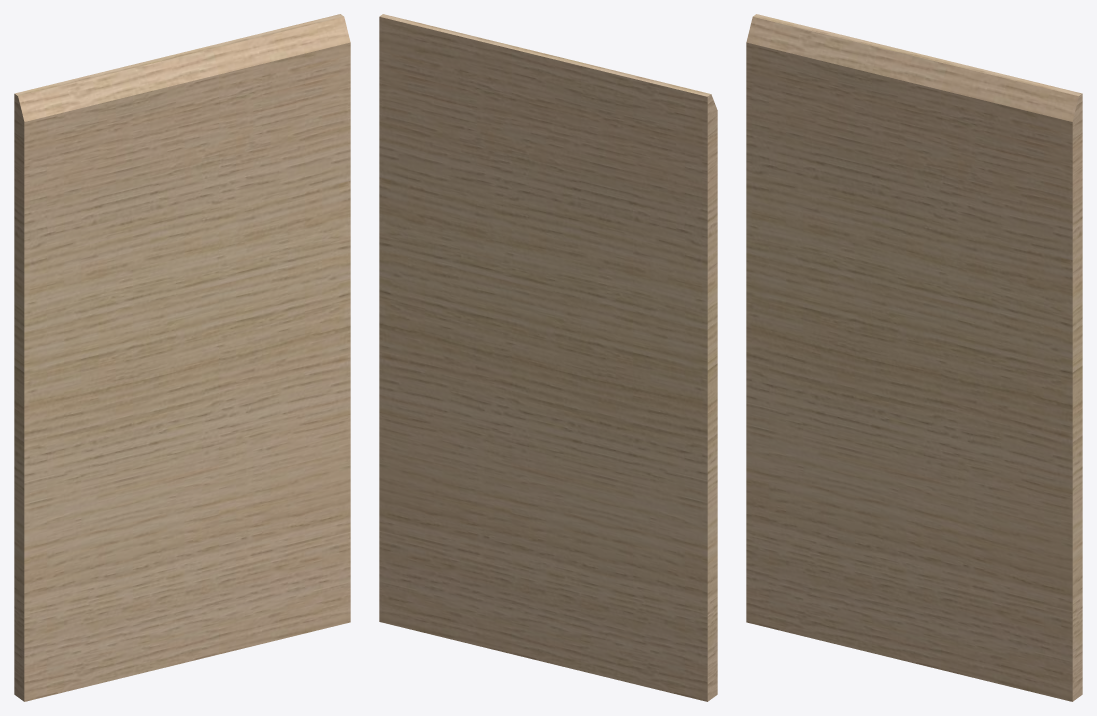
The model's file is dor_S9_dor_hoyre_140.glb.
The picture shows the model from 3 angles, left to right: view 1: azimuth 30°, elevation 25°; view 2: azimuth 150°, elevation 25°; view 3: azimuth 330°, elevation 25°; orthographic projection.
Size of the model in its own units: 356 by 626 by 19.
1 material, 1 textured.
